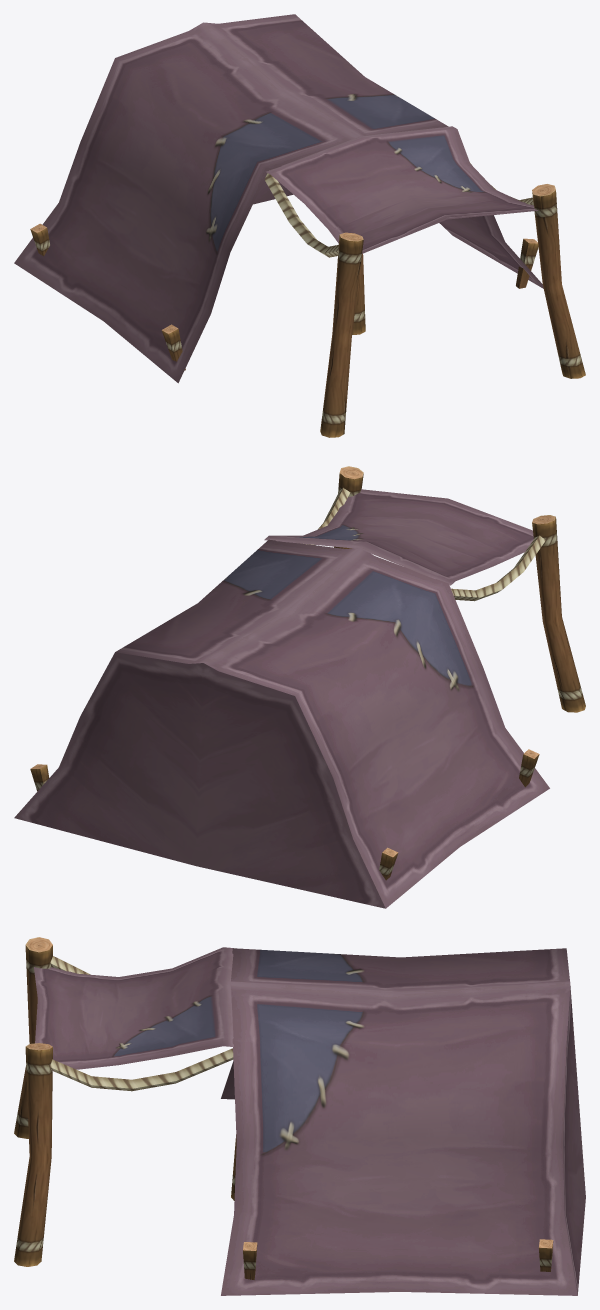
The model's file is ThirdTent.fbx.
3 views of the same model, one above another, from view 1: azimuth 30°, elevation 25°; view 2: azimuth 150°, elevation 25°; view 3: azimuth 270°, elevation 25° (orthographic). The views are drawn at different scales.
Visible parts, largest first — view 1: ThirdTent; view 2: ThirdTent; view 3: ThirdTent.
Part boxes in pixels (box(x1,y1,x2,y2)): ThirdTent: box(14, 14, 585, 437); ThirdTent: box(14, 466, 585, 908); ThirdTent: box(14, 937, 585, 1295).
Size of what is drawn, in the model's own units: 6.52 by 3.34 by 7.98.
